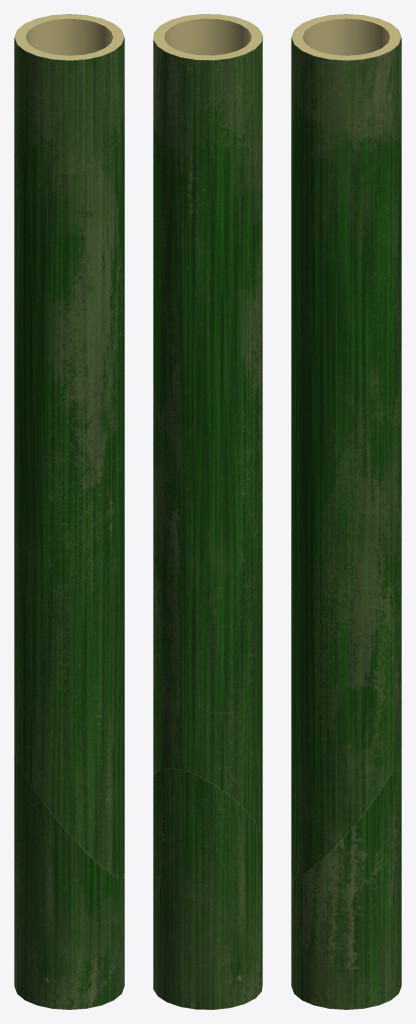
File: bamboo02.fbx
The picture shows the model from 3 angles, left to right: view 1: azimuth 90°, elevation 25°; view 2: azimuth 150°, elevation 25°; view 3: azimuth 270°, elevation 25°; orthographic projection.
Parts seen in each view (by area): view 1: bamboo02_up, bamboo02_down; view 2: bamboo02_up, bamboo02_down; view 3: bamboo02_up, bamboo02_down.
Part boxes in pixels (x1,y1,x2,y2): bamboo02_up: (14,14,124,877); bamboo02_down: (14,749,124,1009); bamboo02_up: (153,14,262,842); bamboo02_down: (153,768,262,1009); bamboo02_up: (291,14,401,877); bamboo02_down: (291,749,401,1009).
Bounding box in the file's own units: 23.1 × 220 × 23.1.
